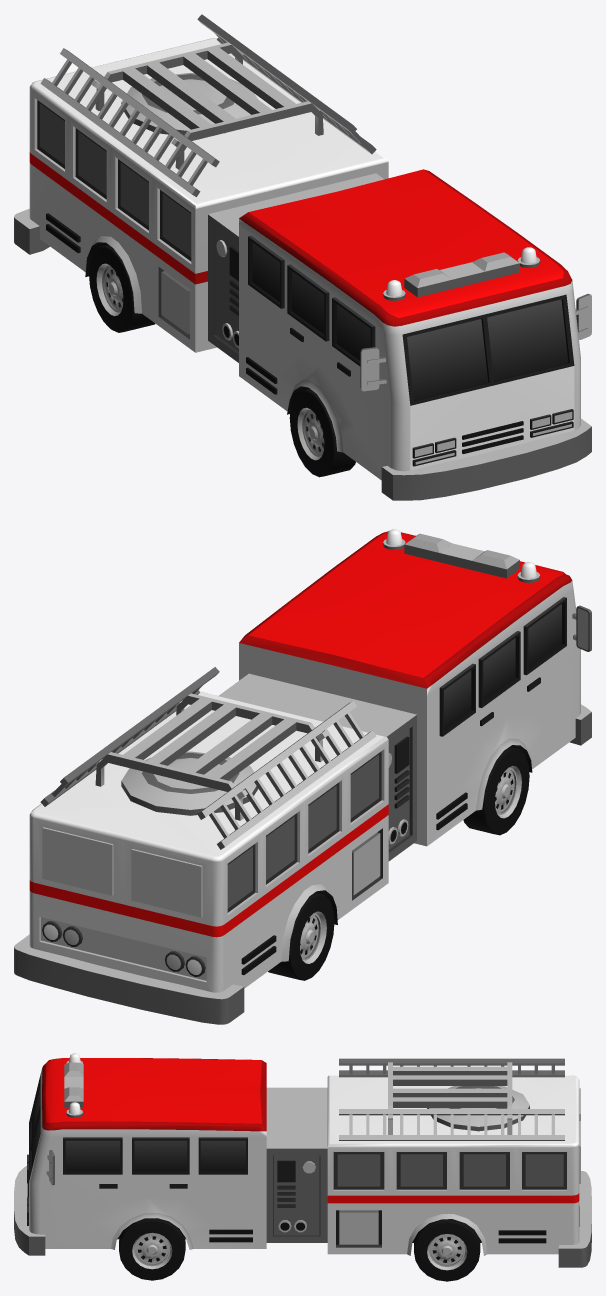
The model's file is XiaoFangChe00.fbx.
The picture shows the model from 3 angles, top to bottom: view 1: azimuth 30°, elevation 25°; view 2: azimuth 150°, elevation 25°; view 3: azimuth 270°, elevation 25°; orthographic projection. The views are drawn at different scales.
Parts seen in each view (by area): view 1: XiaoFangChe00; view 2: XiaoFangChe00; view 3: XiaoFangChe00.
Part boxes in pixels (box(x1,y1,x2,y2)): XiaoFangChe00: box(14, 14, 591, 500); XiaoFangChe00: box(14, 529, 591, 1024); XiaoFangChe00: box(14, 1053, 591, 1281).
Bounding box in the file's own units: 405 × 375 × 1178.
